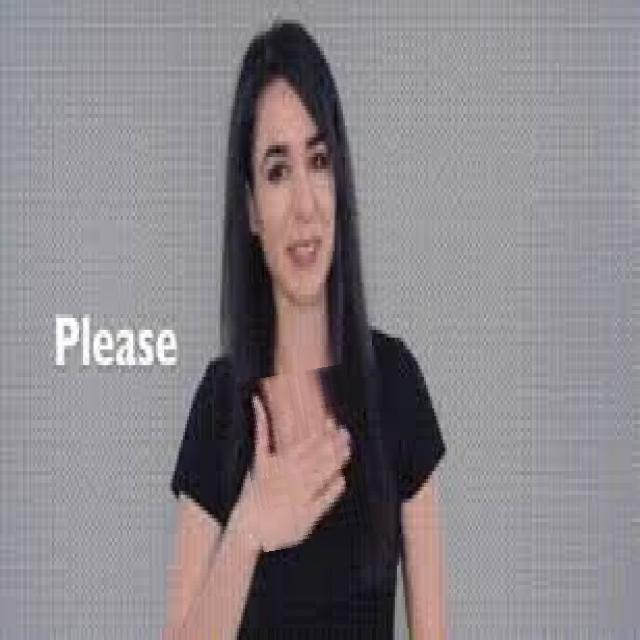Please: (241, 368, 367, 548)
